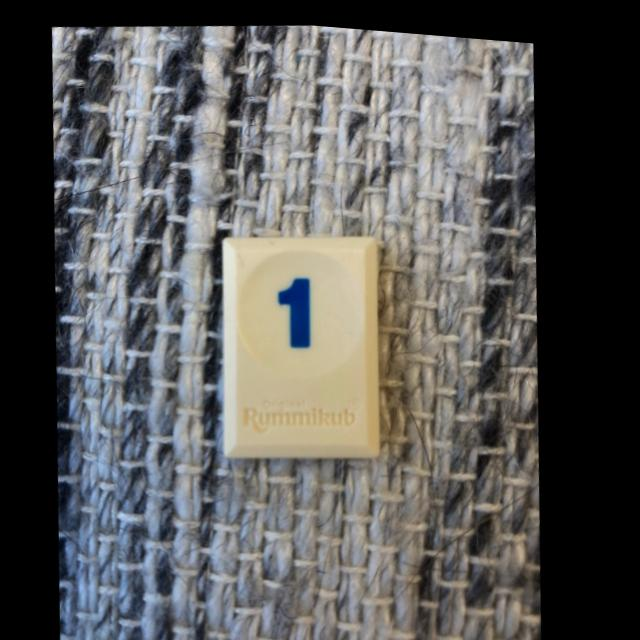blue_1: (227, 231, 383, 452)
